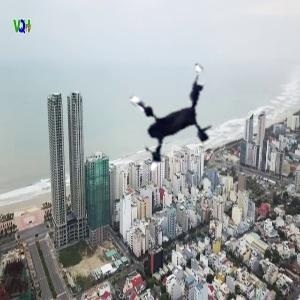drone: (98, 47, 236, 185)
